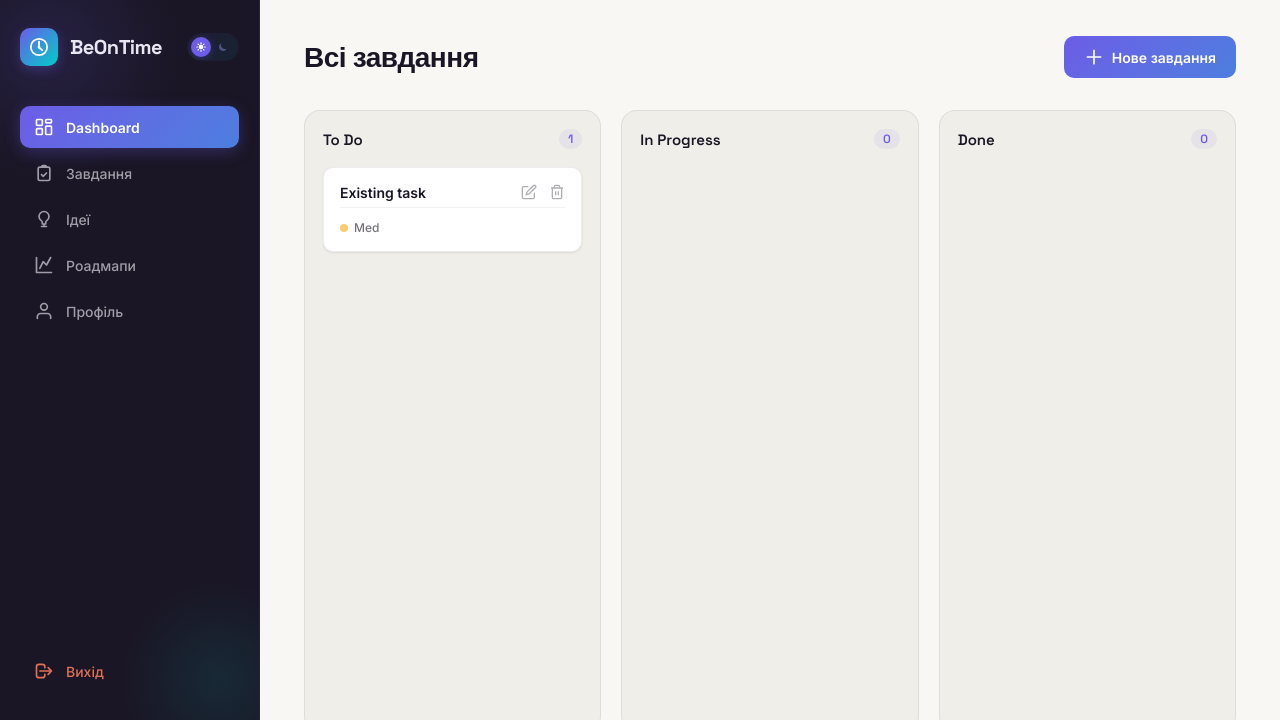
Scenario: TasksPage Component › повинен відкривати модалку редагування при кліку на кнопку
Expected: the text "Existing task" is shown, [340,184,426,201]
# Кнопка редагування
Click the button titled "Редагувати": (529, 192) [517,180,541,204]
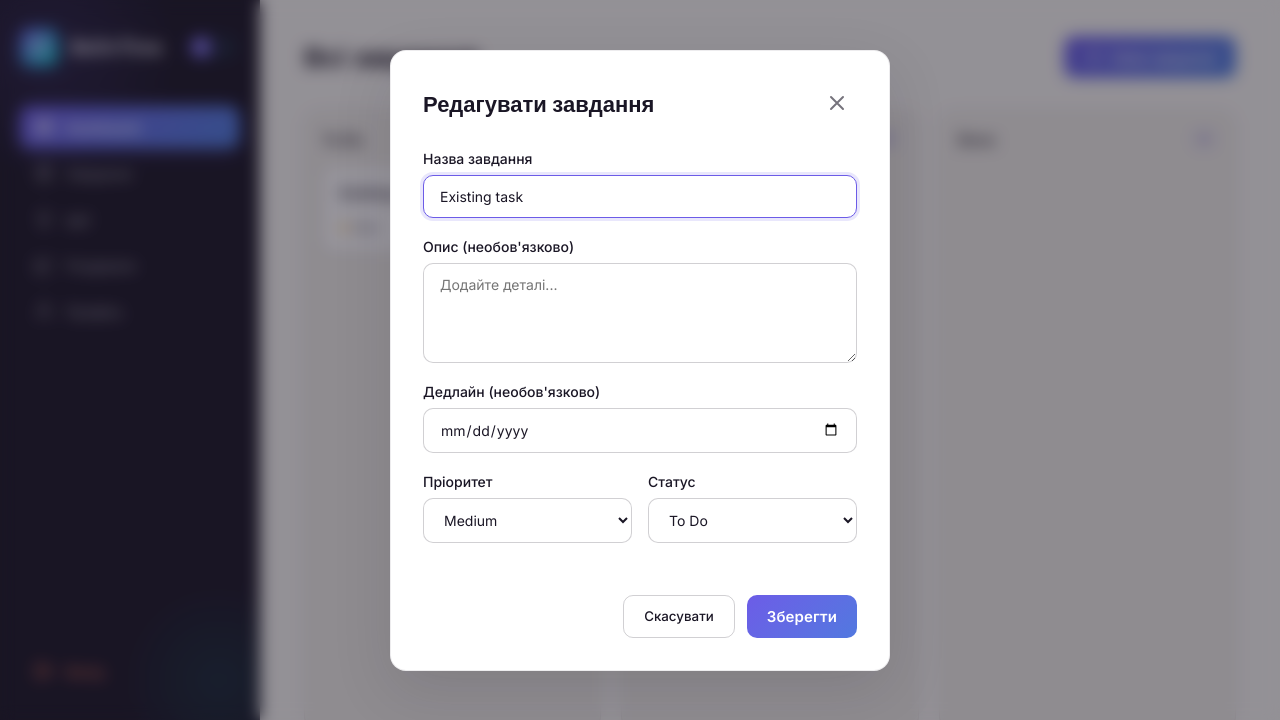
Expected: the heading "Редагувати завдання" is shown, [423,90,654,118]
Expected: the field showing "Existing task" is shown, [423,174,857,218]
